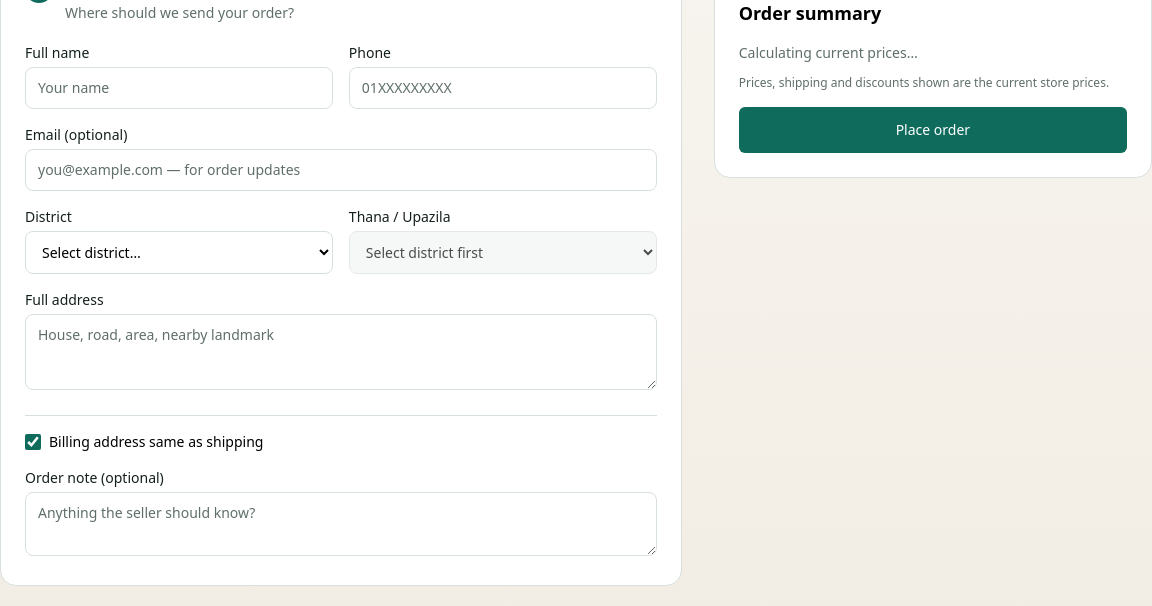
Test: CheckoutForm — phone required, email optional › refuses to place an order without a phone number
The width and height of the screenshot is (1152, 606).
Type "Ada Lovelace" into the field labelled "Full name" at [179, 88], box [25,67,333,109]
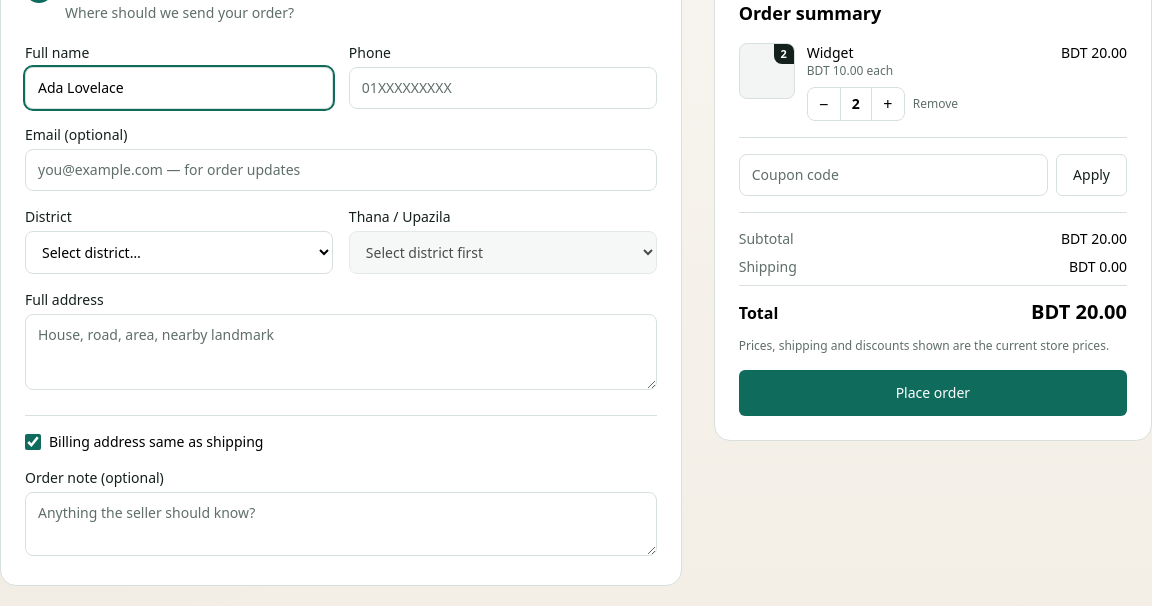
Select "Dhaka" in the dropdown labelled "District" at [179, 252], box [25,231,333,274]
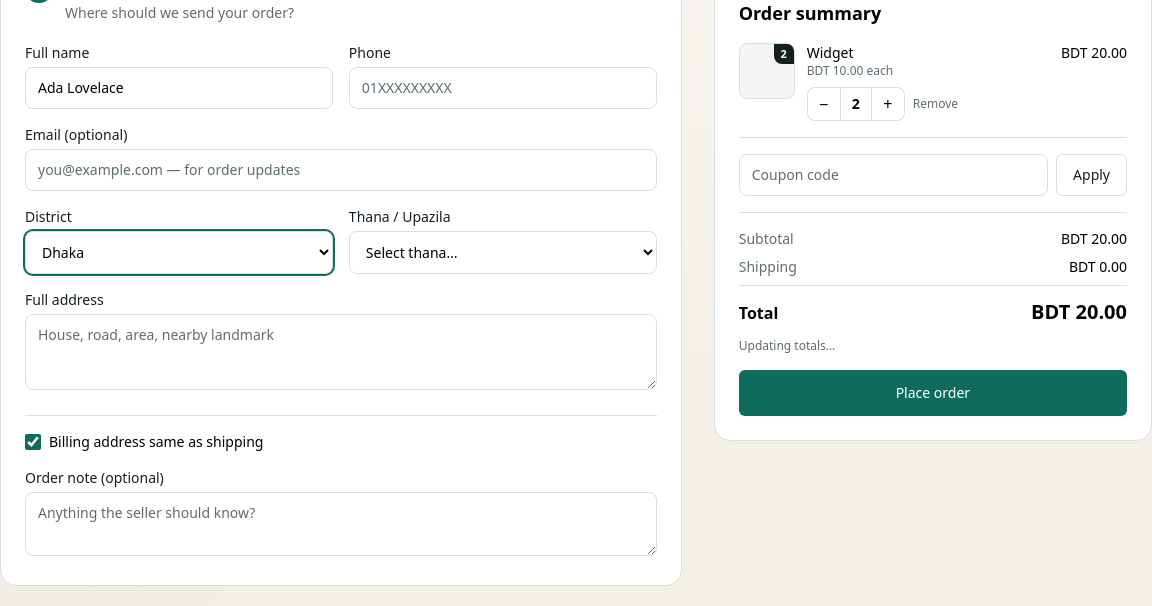
Check: the dropdown labelled "Thana / Upazila" is enabled
Select "Tejgaon" in the dropdown labelled "Thana / Upazila" at [503, 252], box [349,231,657,274]
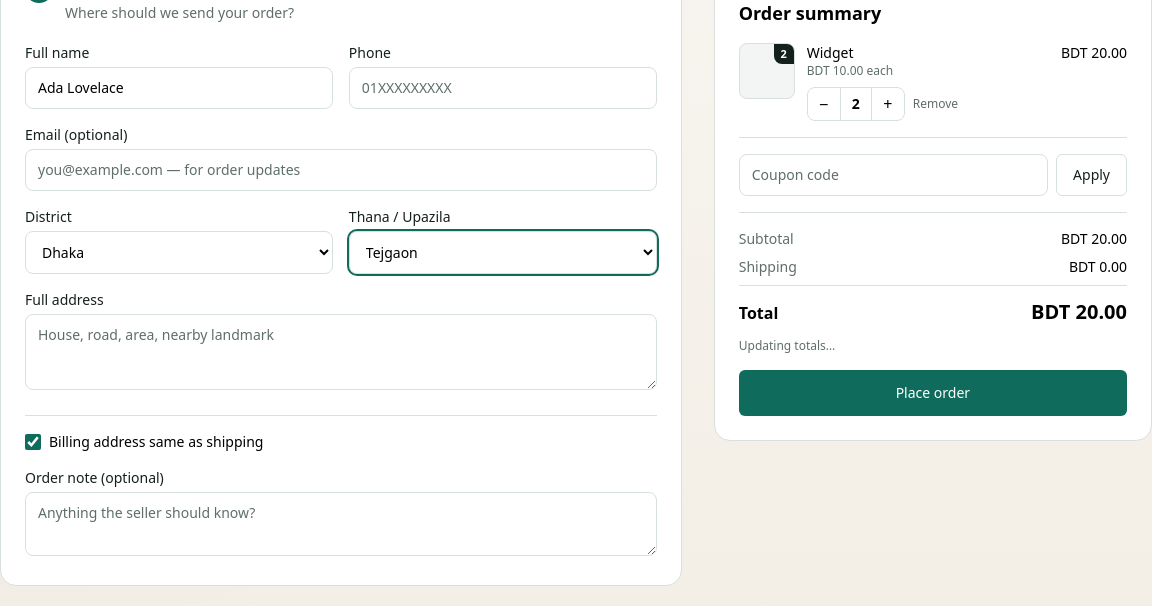
Type "123 Main" into the text box labelled "Full address" at [341, 352], box [25,314,657,390]
(page scrolled)
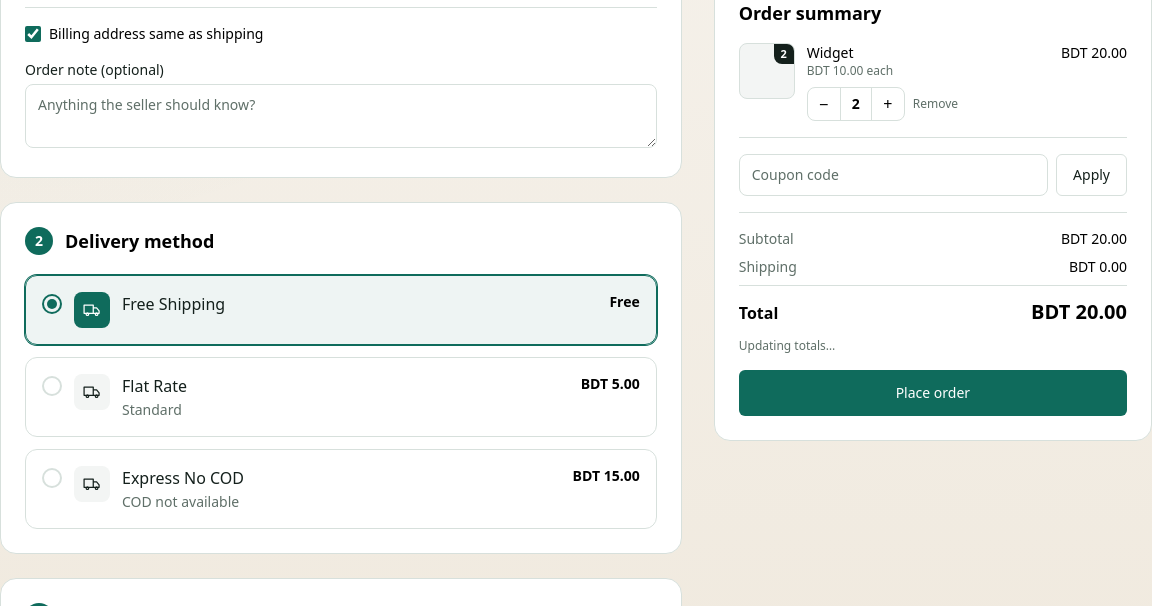
Click the radio button labelled "Free Shipping Free" at [92, 310], box [25,275,657,345]
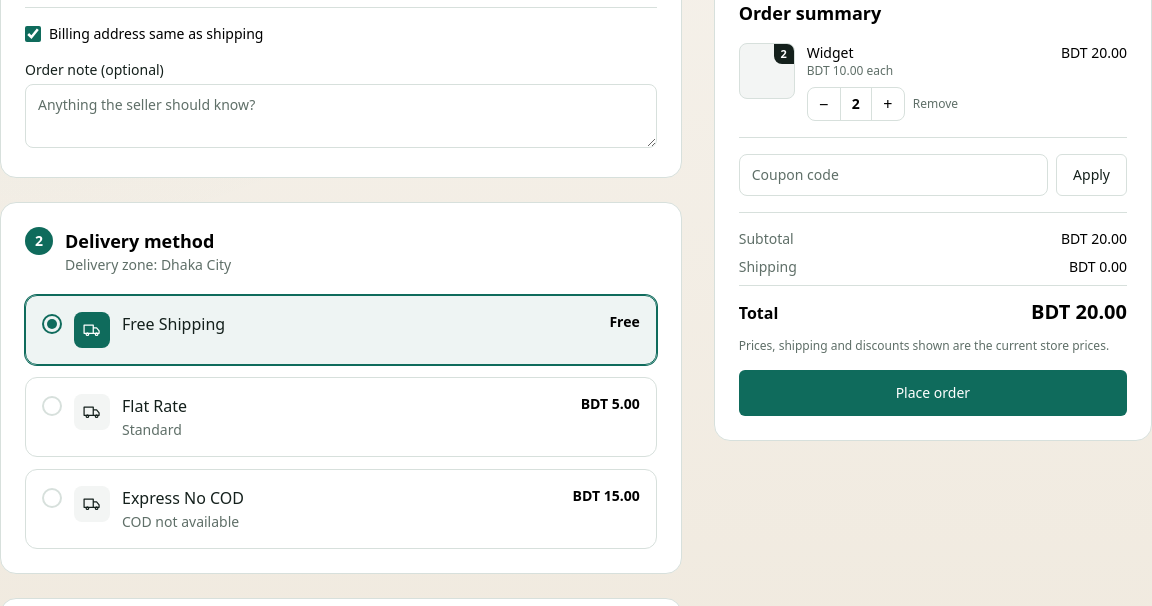
Check: the text "Calculating current prices" is not shown
Check: the text "Total" is shown, box [739,301,778,325]
Check: the text "Updating totals" is gone
Click the button "Place order" at [933, 393], box [739,370,1127,416]
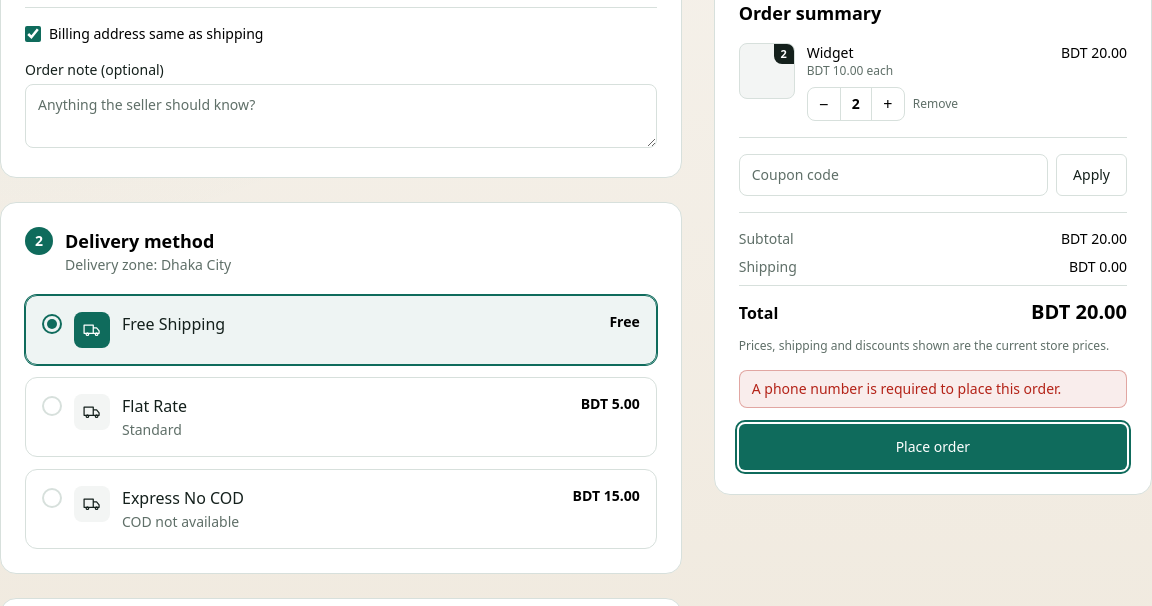
Check: the message shows "phone number is required", box [752,379,1061,398]
